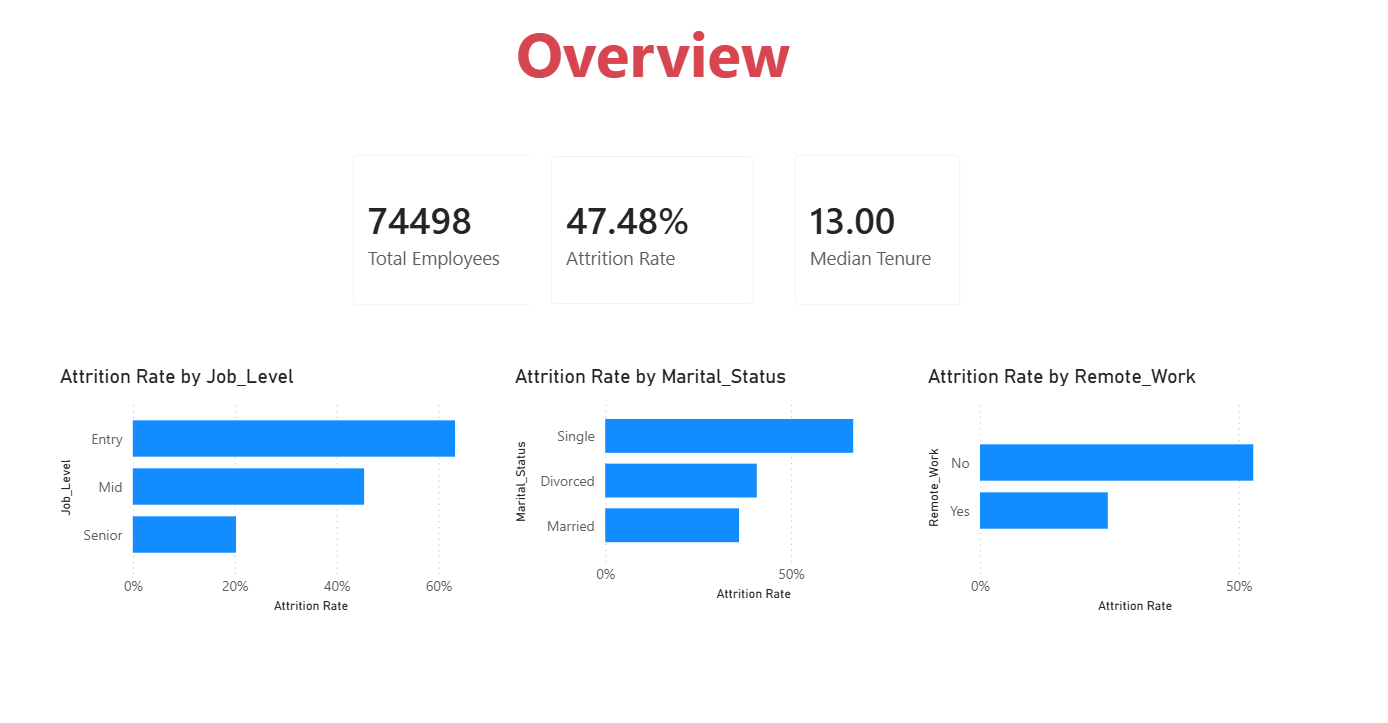

The dashboard page shown, as its layout file describes it:
{"tool":"powerbi","page":{"name":"Overview","canvas":[1280,720],"ordinal":0},"visuals":[{"type":"cardVisual","fields":{"Data":[" employee_attrition_raw_emp_attrition_csv.Total Employees"]},"box":[301.9,132,207,164.7],"z":0},{"type":"cardVisual","fields":{"Data":[" employee_attrition_raw_emp_attrition_csv.Attrition Rate"]},"box":[471.8,132,211.3,164.7],"z":1000},{"type":"cardVisual","fields":{"Data":[" employee_attrition_raw_emp_attrition_csv.Median Tenure"]},"box":[683.1,132,177.7,164.7],"z":2000},{"type":"clusteredBarChart","fields":{"Category":[" employee_attrition_raw_emp_attrition_csv.Job_Level"],"Y":[" employee_attrition_raw_emp_attrition_csv.Attrition Rate"]},"box":[61.2,329.5,392.5,219.1],"z":3000},{"type":"clusteredBarChart","fields":{"Category":[" employee_attrition_raw_emp_attrition_csv.Marital_Status"],"Y":[" employee_attrition_raw_emp_attrition_csv.Attrition Rate"]},"box":[453.7,329.5,356.2,208.7],"z":4000},{"type":"clusteredBarChart","fields":{"Category":[" employee_attrition_raw_emp_attrition_csv.Remote_Work"],"Y":[" employee_attrition_raw_emp_attrition_csv.Attrition Rate"]},"box":[809.9,329.5,334.7,219.1],"z":5000},{"type":"textbox","box":[435.6,19,284.6,96.6],"z":6000}]}

Visuals, with their boxes on the page's 1280x720 design canvas (x1, y1, x2, y2). These are canvas units, not pixel positions in the 1388x723 screenshot, which may show the page scaled, cropped or inside an application window:
cardVisual -  employee_attrition_raw_emp_attrition_csv.Total Employees: (left=302, top=132, right=509, bottom=297)
cardVisual -  employee_attrition_raw_emp_attrition_csv.Attrition Rate: (left=472, top=132, right=683, bottom=297)
cardVisual -  employee_attrition_raw_emp_attrition_csv.Median Tenure: (left=683, top=132, right=861, bottom=297)
clusteredBarChart -  employee_attrition_raw_emp_attrition_csv.Job_Level x  employee_attrition_raw_emp_attrition_csv.Attrition Rate: (left=61, top=330, right=454, bottom=549)
clusteredBarChart -  employee_attrition_raw_emp_attrition_csv.Marital_Status x  employee_attrition_raw_emp_attrition_csv.Attrition Rate: (left=454, top=330, right=810, bottom=538)
clusteredBarChart -  employee_attrition_raw_emp_attrition_csv.Remote_Work x  employee_attrition_raw_emp_attrition_csv.Attrition Rate: (left=810, top=330, right=1145, bottom=549)
textbox: (left=436, top=19, right=720, bottom=116)
